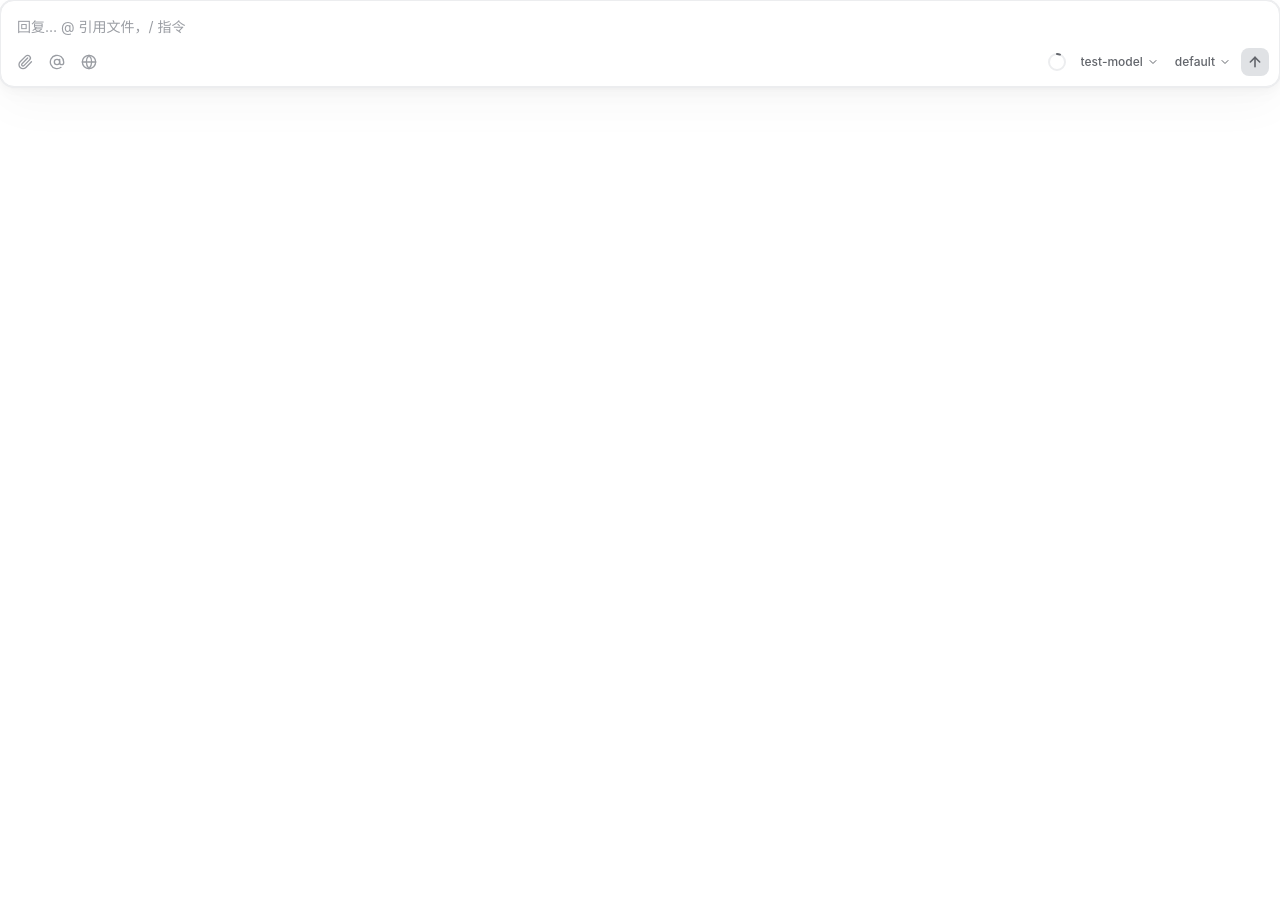
Test: 提供商没有缓存数据时命中率显示 —，不写成 0%
This screenshot has width=1280, height=900.
Click the button named "上下文占用": [1057, 62] box [1043,48,1071,76]
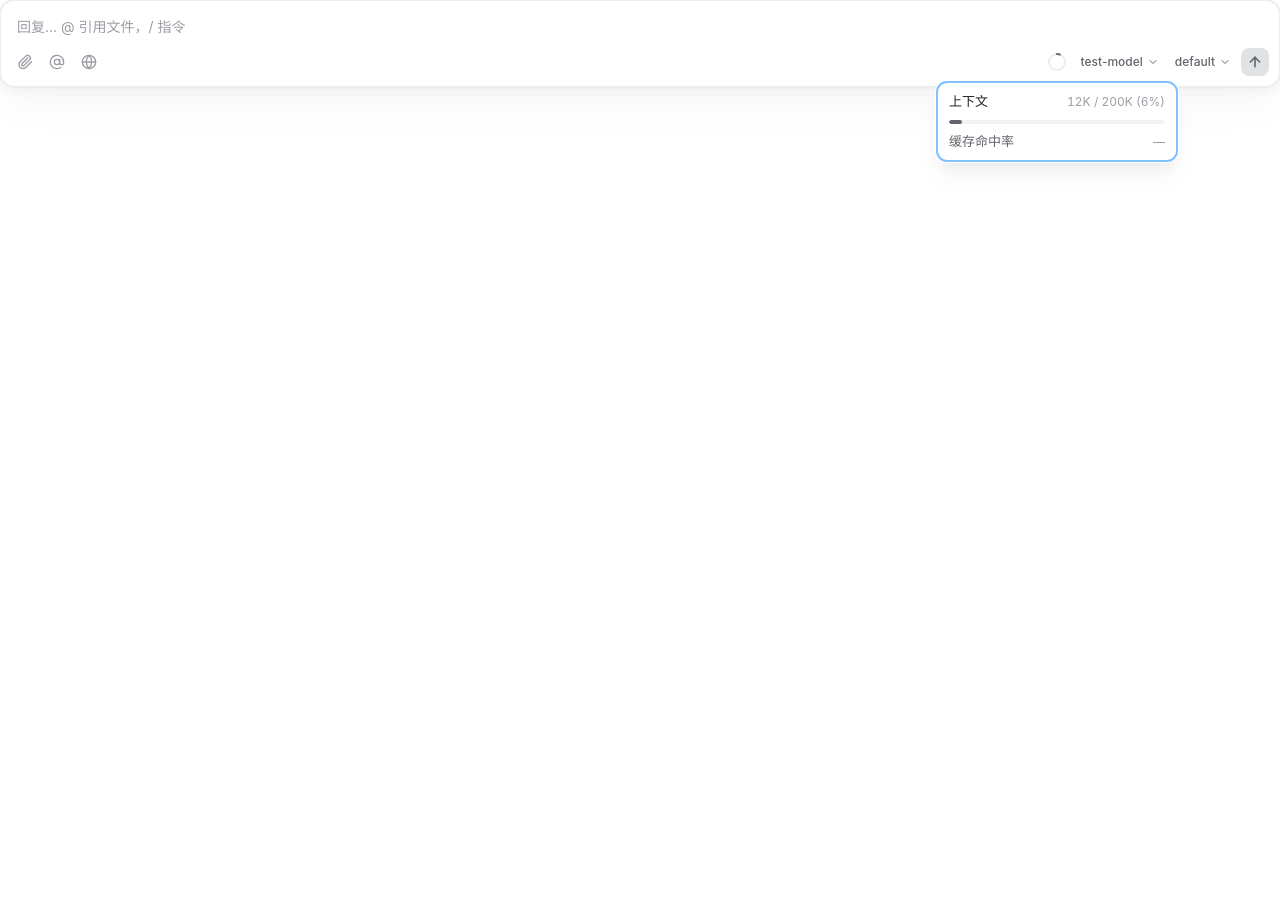
Now the text "—" is shown, box [1153,132,1165,150]
